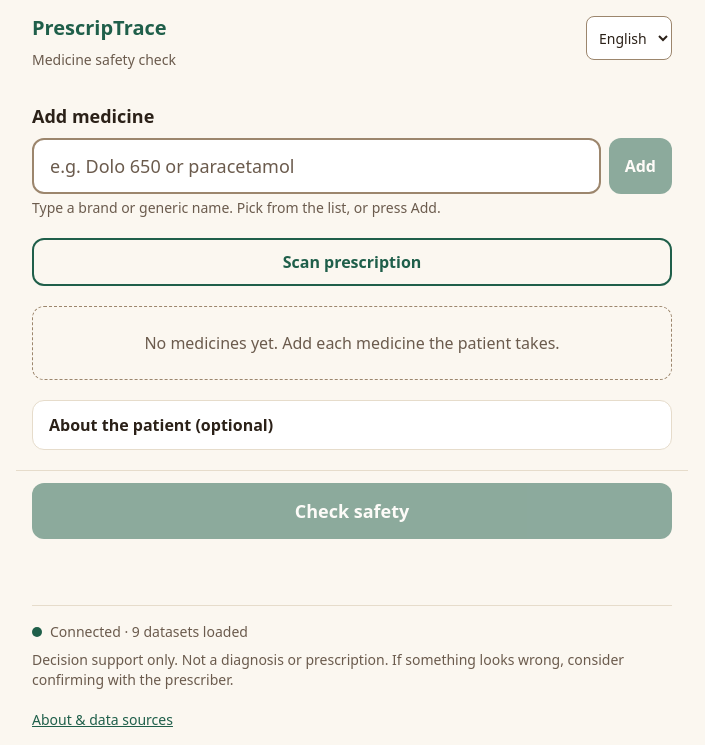
adding medicines › removes a medicine
The width and height of the screenshot is (705, 745).
Type "dol" into the dropdown labelled "Add medicine" at (316, 166), box top-left (32, 138), bottom-right (601, 194)
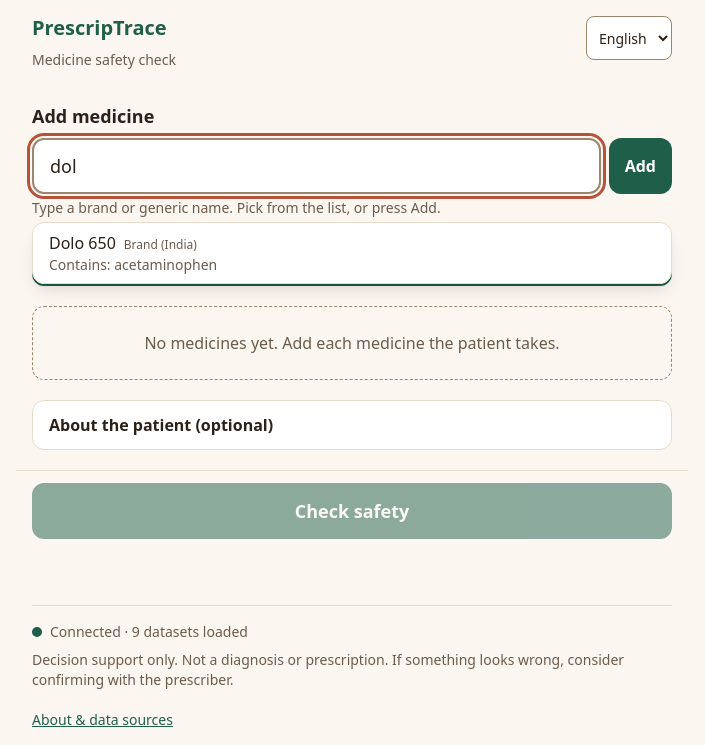
Click the option "Dolo 650Brand (India) Contains: acetaminophen" at (133, 253), box top-left (49, 232), bottom-right (217, 274)
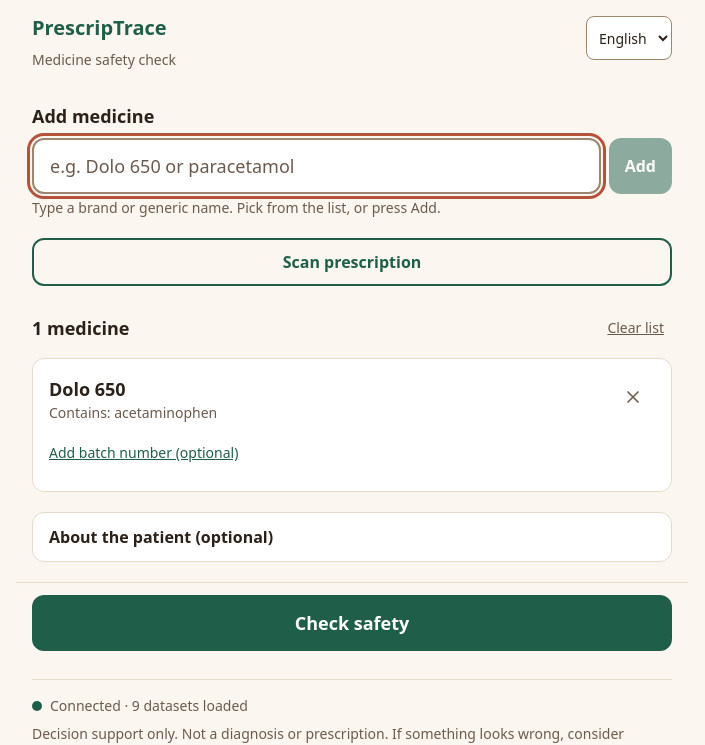
Click the button named "Remove Dolo 650" at (633, 397), box top-left (611, 375), bottom-right (655, 419)
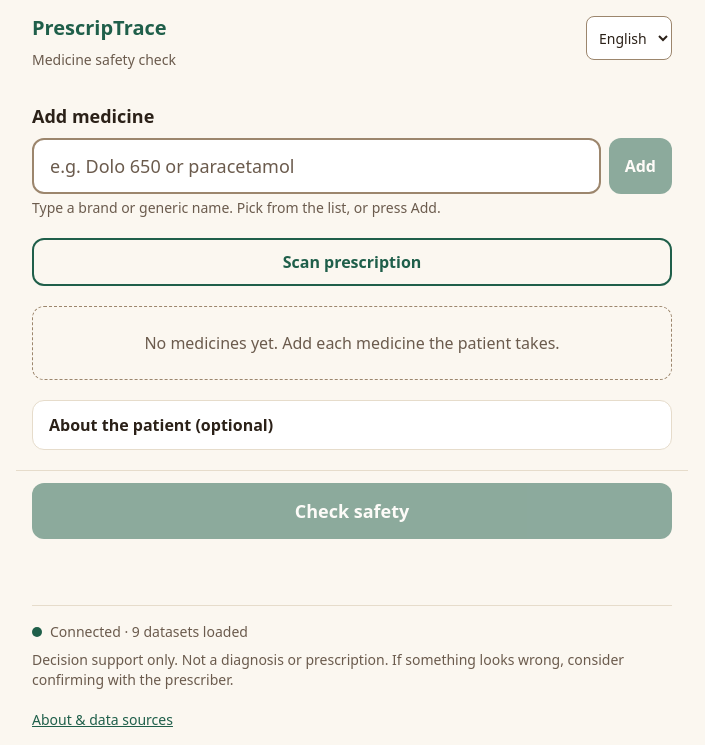
expect the text "No medicines yet. Add each medicine the patient takes." is shown: met, box top-left (32, 306), bottom-right (672, 380)
